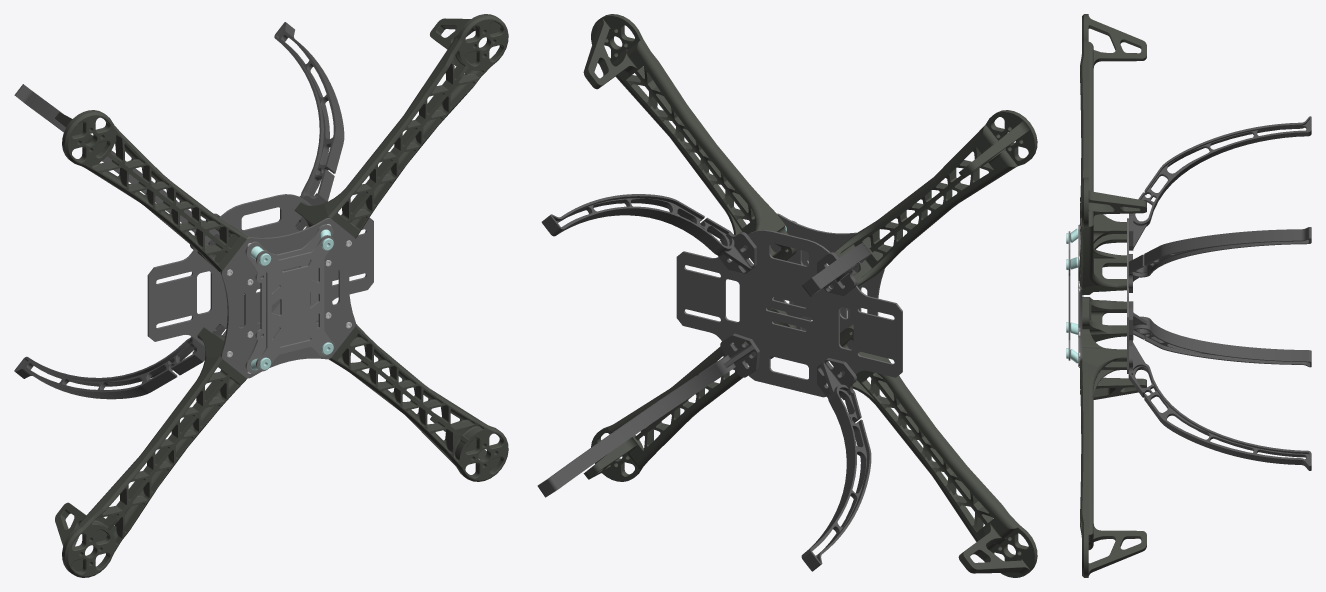
File: Freestyle_7.glb
3 views of the same model, side by side, from view 1: azimuth 30°, elevation 25°; view 2: azimuth 150°, elevation 25°; view 3: azimuth 270°, elevation 25° (orthographic). The views are drawn at different scales.
Parts seen in each view (by area): view 1: freestyle7; view 2: freestyle7; view 3: freestyle7.
Part boxes in pixels (x1,y1,x2,y2): freestyle7: [14, 14, 508, 577]; freestyle7: [537, 14, 1037, 577]; freestyle7: [1066, 14, 1311, 577].
Bounding box in the file's own units: 0.3206 × 0.3206 × 0.1804.
